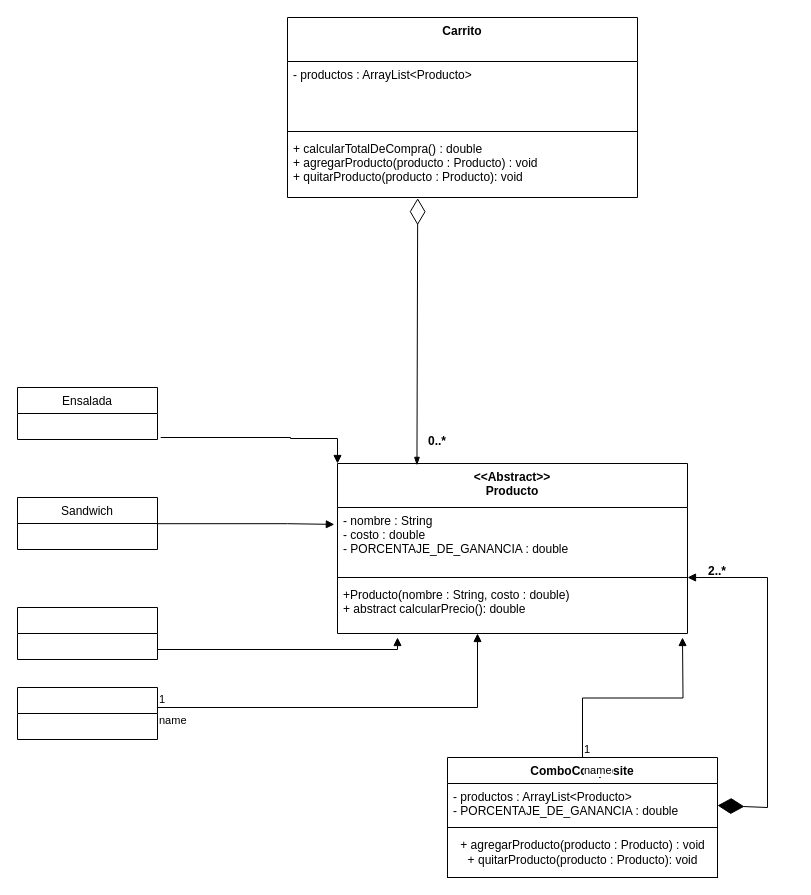
This 811x895 diagram has some shape labels left out. Here are the shapes that lost their labels. From the top down, the centre of each, then its label:
At point (87, 633): "Gaseosa".
At point (87, 713): "PapaFrita".
